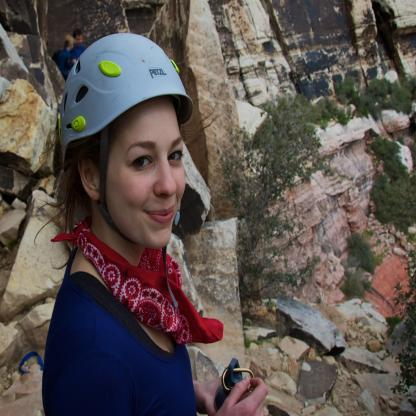Helmet: (56, 32, 194, 262)
